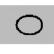no answer: (15, 13, 44, 36)
